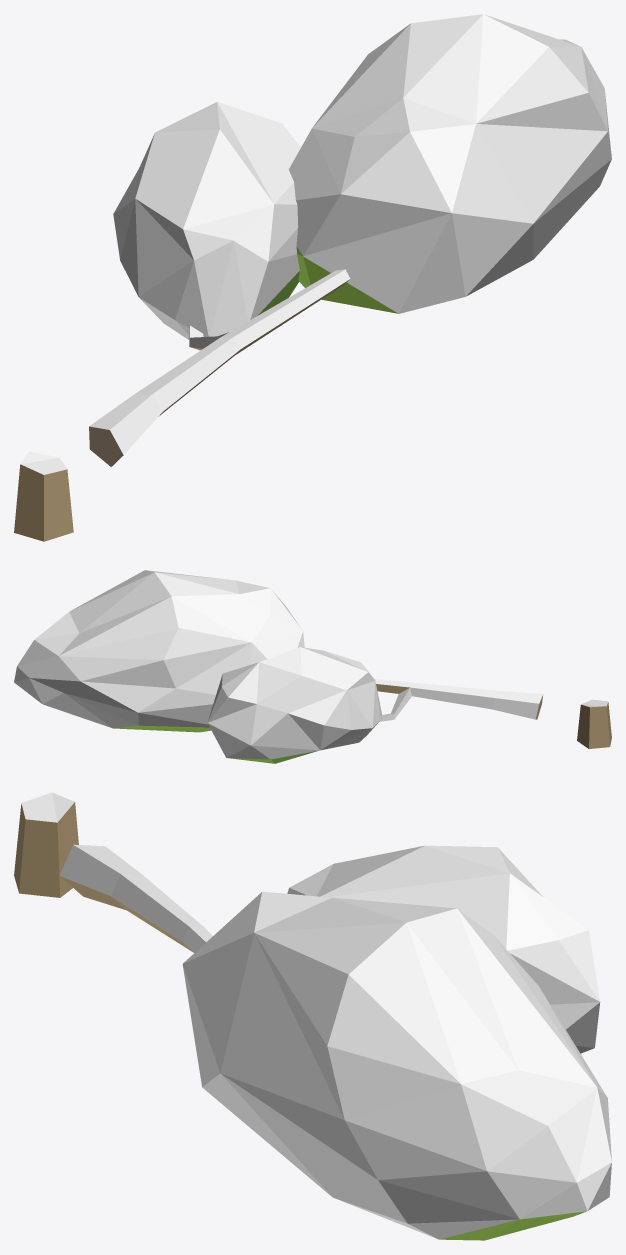
The model's file is Random_Tree_crk_m_Snow_03.fbx.
The picture shows the model from 3 angles, top to bottom: view 1: azimuth 30°, elevation 25°; view 2: azimuth 150°, elevation 25°; view 3: azimuth 270°, elevation 25°; orthographic projection. The views are drawn at different scales.
Visible parts, largest first — view 1: Random_Tree_crk_m_Snow_03; view 2: Random_Tree_crk_m_Snow_03; view 3: Random_Tree_crk_m_Snow_03.
Boxes of the visible parts, <box> form: Random_Tree_crk_m_Snow_03: <box>14,14,611,541</box>; Random_Tree_crk_m_Snow_03: <box>14,570,611,763</box>; Random_Tree_crk_m_Snow_03: <box>14,792,611,1240</box>.
Size of the model in its own units: 1038 by 325 by 590.
